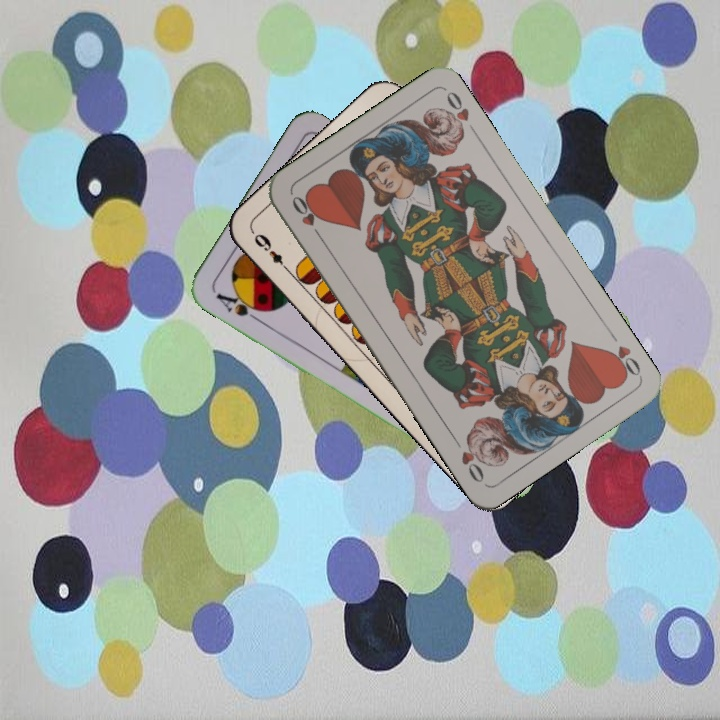E9: (248, 227, 293, 275)
HO: (602, 328, 644, 382), (287, 191, 326, 244)
SA: (212, 287, 268, 325)
